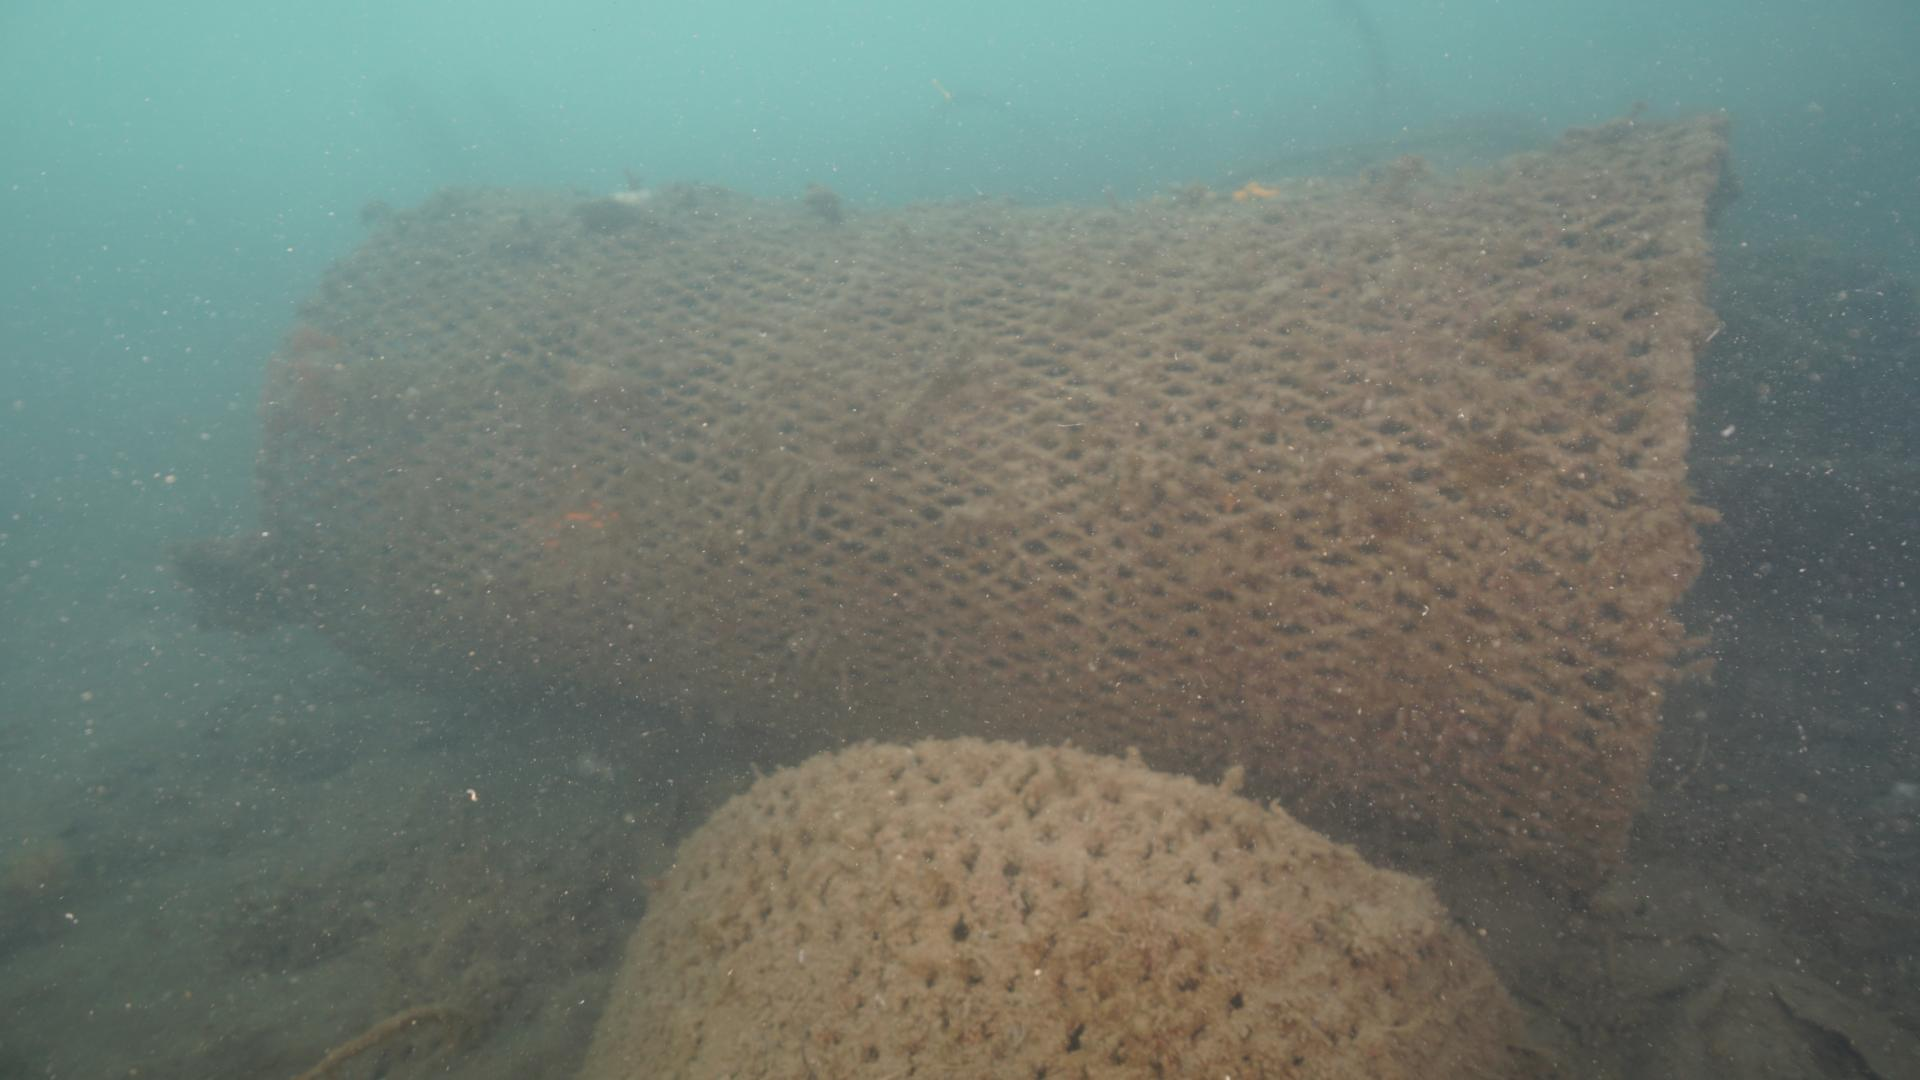fish net: (576, 731, 1547, 1077)
spring fish trap: (243, 94, 1745, 884)
